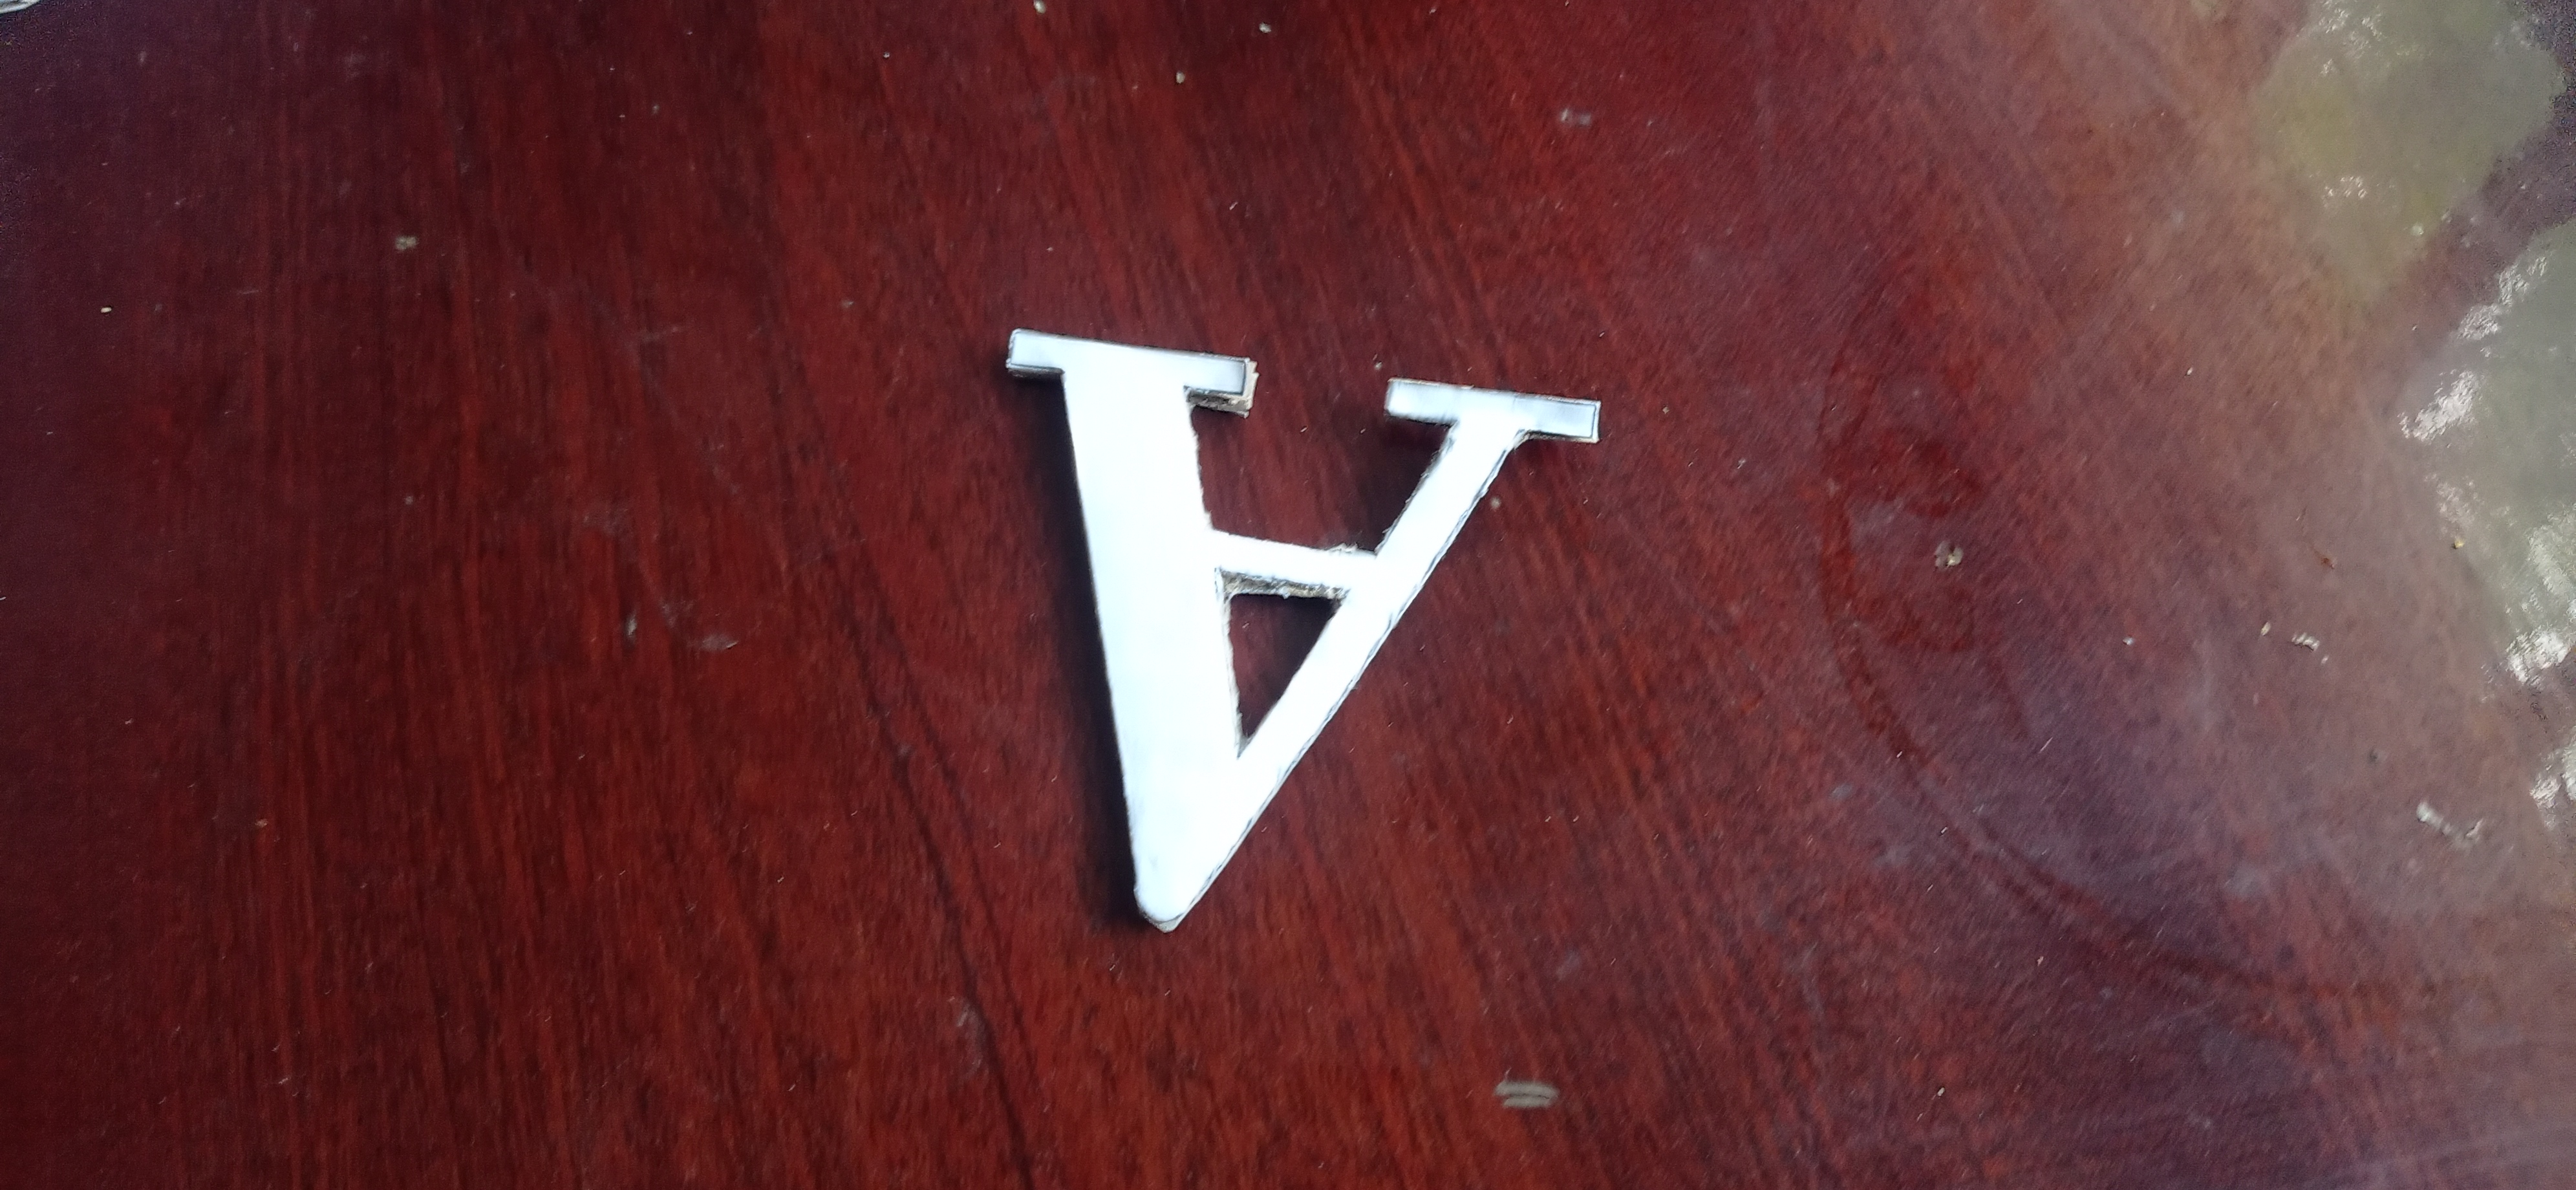a: (1007, 322, 1603, 943)
